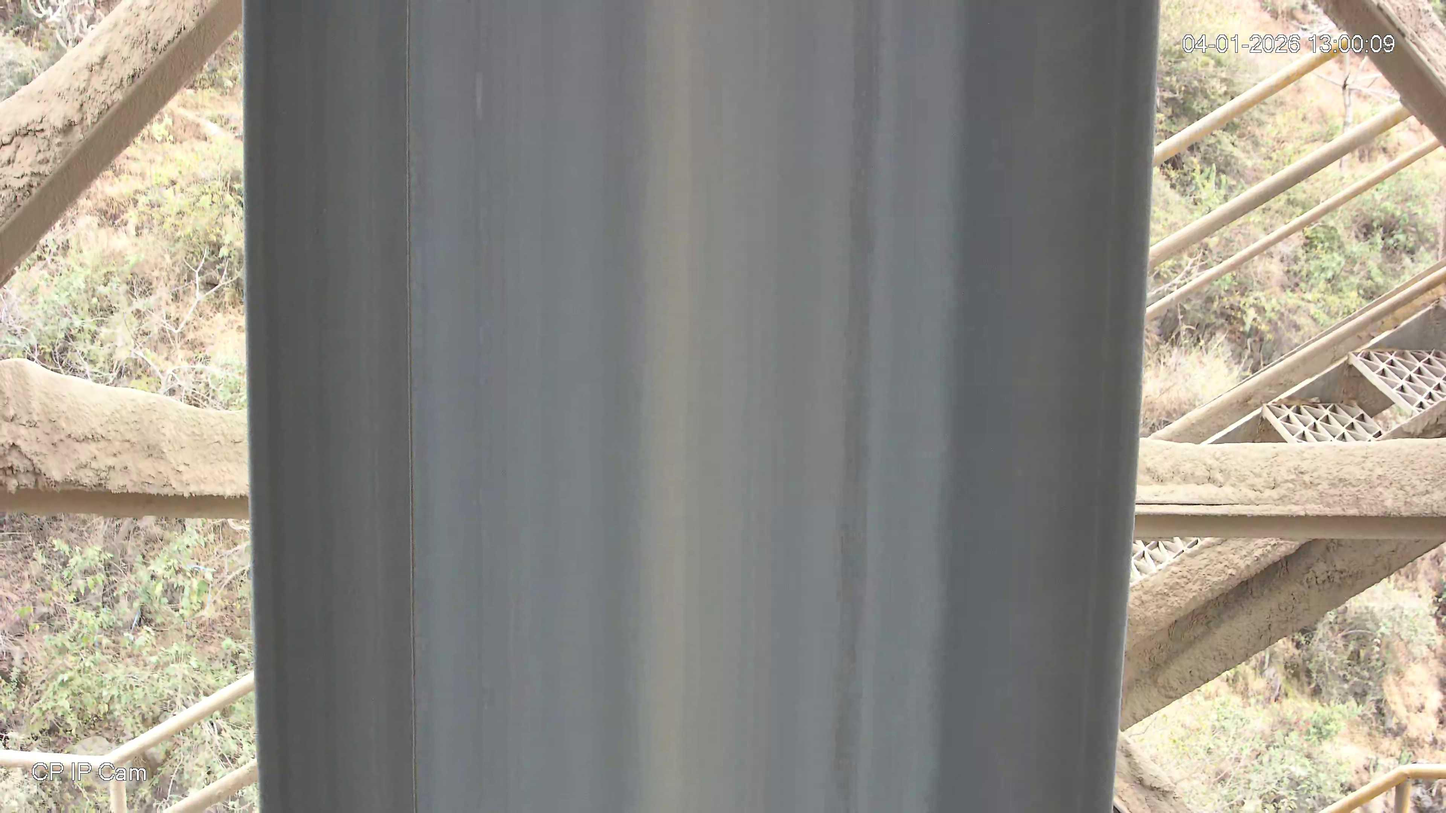belt_roi: (243, 0, 1159, 813)
